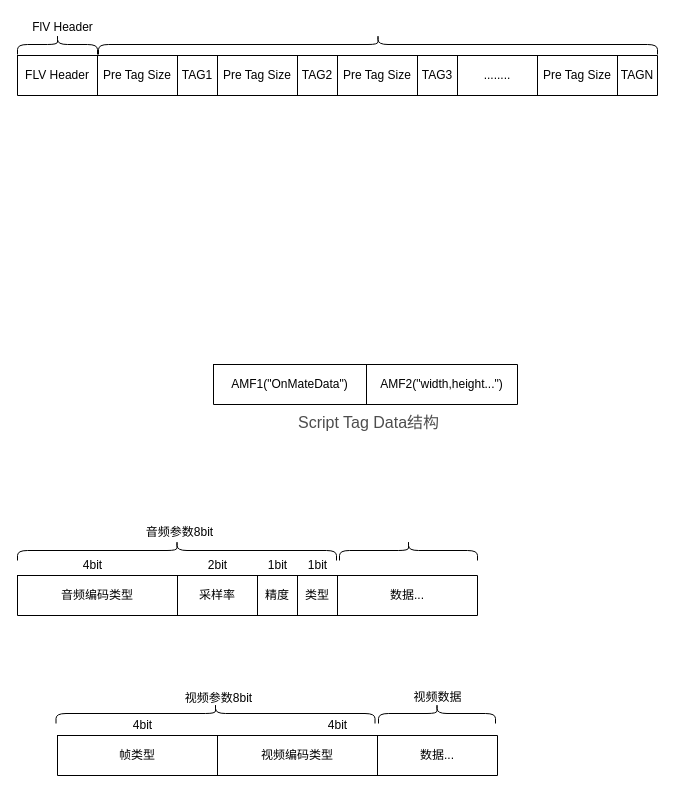
The diagram is 675 pixels wide and 793 high, and some of its shapes have lost their labels. Each missing label, with the box of its shape:
FLV Body: (98, 34, 658, 54)
音频数据: (338, 540, 478, 560)
